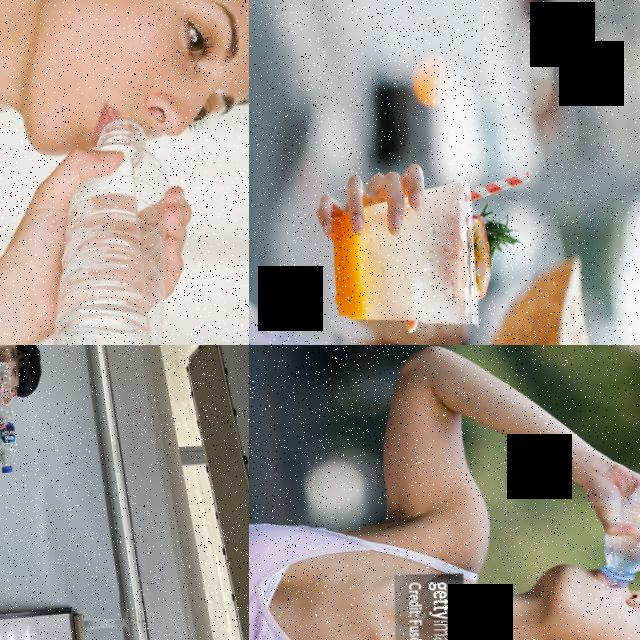bottle: (50, 115, 167, 345), (595, 433, 640, 591), (0, 358, 16, 475)
cup: (329, 174, 482, 336)
